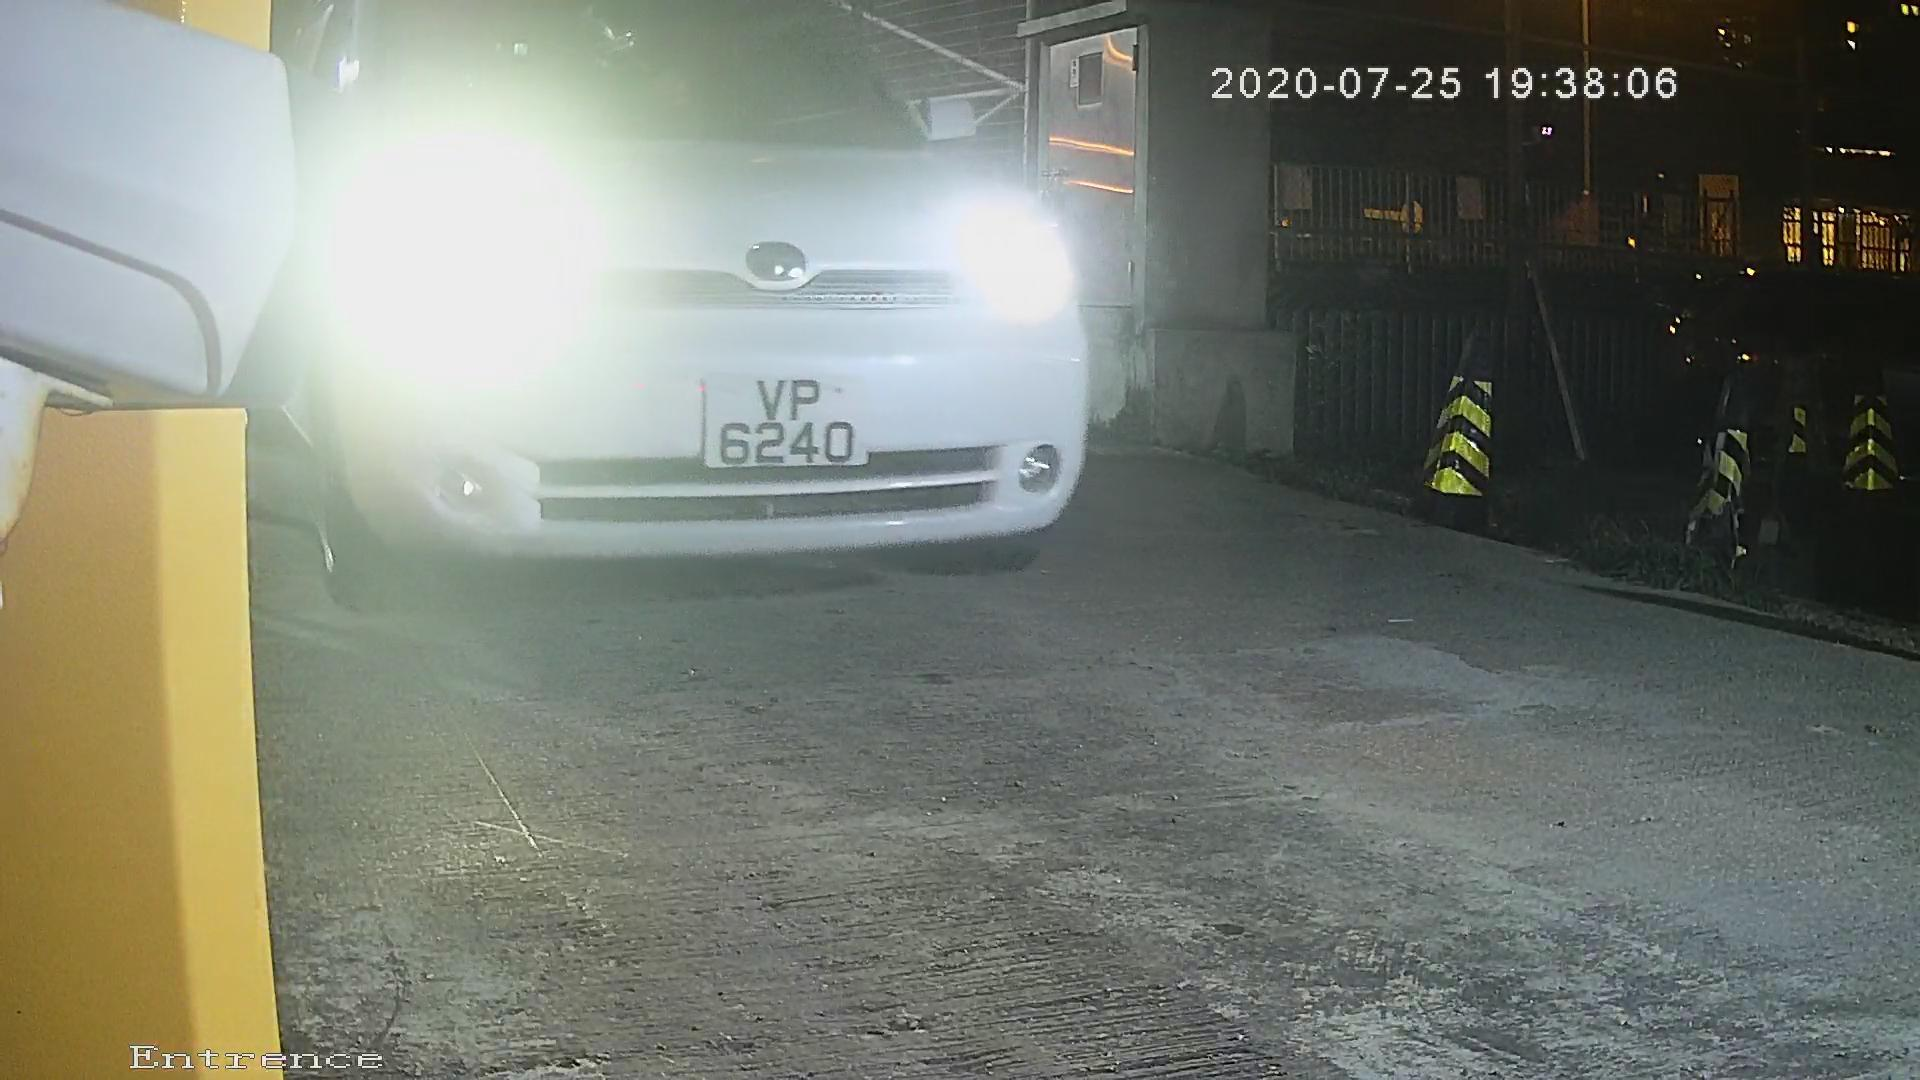privatecar: (198, 20, 1226, 618)
